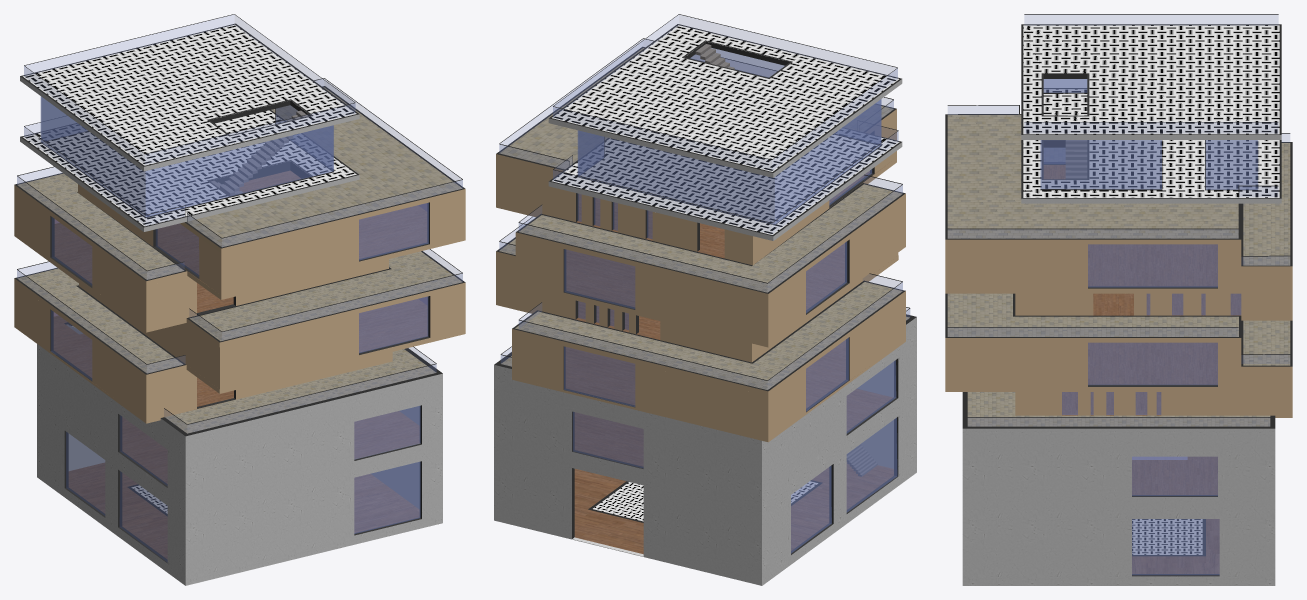
3 views of the same model, side by side, from view 1: azimuth 30°, elevation 25°; view 2: azimuth 150°, elevation 25°; view 3: azimuth 270°, elevation 25° (orthographic). The views are drawn at different scales.
Parts seen in each view (by area): view 1: Ground Floor Facade, Top Roof, Ballustrades, 07 Slab, 06 Slab, Glass.003, Glass.002, 04 Slab, 05 Slab, 04 Floor, 03 Slab, 06 Floor (+10 smaller); view 2: Ground Floor Facade, Top Roof, Ballustrades, 07 Slab, Glass.003, 05 Slab, 03 Slab, 03 Floor, 05 Floor, Glass.002, 06 Floor, Ground (+9 smaller); view 3: Ground Floor Facade, Top Roof, 06 Slab, Ballustrades, 07 Slab, 05 Slab, 04 Slab, Glass.003, 03 Slab, Glass.002, 06 Floor, 04 Floor (+10 smaller).
Boxes of the visible parts, box(x1,y1,x2,y2) form: Ground Floor Facade: box(37, 326, 442, 585); Top Roof: box(20, 23, 359, 171); Ballustrades: box(17, 14, 462, 432); 07 Slab: box(20, 110, 359, 231); 06 Slab: box(180, 86, 465, 253); Glass.003: box(40, 96, 333, 218); Glass.002: box(66, 406, 420, 562); 04 Slab: box(14, 223, 465, 346); 05 Slab: box(14, 171, 465, 299); 04 Floor: box(79, 283, 465, 388); 03 Slab: box(14, 267, 465, 393); 06 Floor: box(78, 184, 465, 295); Ground Floor Facade: box(494, 314, 916, 585); Top Roof: box(548, 24, 902, 177); Ballustrades: box(499, 14, 910, 389); 07 Slab: box(548, 128, 902, 240); Glass.003: box(577, 48, 881, 225); 05 Slab: box(496, 158, 905, 298); 03 Slab: box(496, 255, 905, 396); 03 Floor: box(512, 296, 905, 439); 05 Floor: box(515, 198, 905, 342); Glass.002: box(573, 360, 897, 553); 06 Floor: box(496, 114, 896, 265); Ground: box(572, 464, 916, 567); Ground Floor Facade: box(962, 392, 1275, 585); Top Roof: box(1021, 24, 1281, 139); 06 Slab: box(945, 114, 1241, 244); Ballustrades: box(947, 14, 1290, 425); 07 Slab: box(1021, 88, 1281, 203); 05 Slab: box(945, 142, 1292, 293); 04 Slab: box(945, 293, 1292, 342); Glass.003: box(1040, 79, 1257, 190); 03 Slab: box(945, 320, 1292, 391); Glass.002: box(1132, 456, 1219, 575); 06 Floor: box(945, 163, 1241, 288); 04 Floor: box(945, 342, 1241, 386).
Size of what is drawn, in the model's own units: 32 by 44.17 by 32.
Materials: 17 (4 with a texture image).
